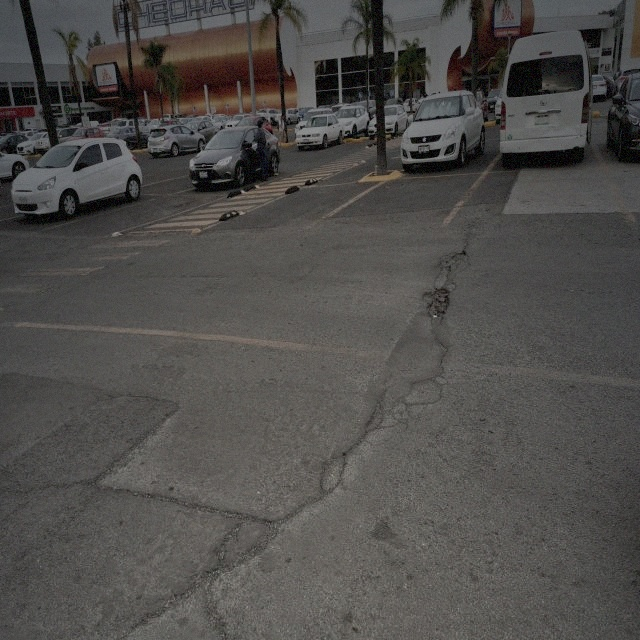pothole: (426, 283, 450, 320), (452, 250, 466, 263)
